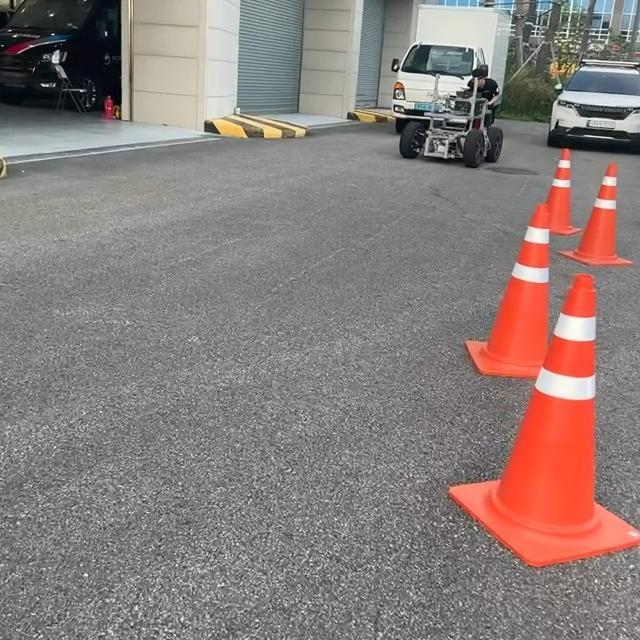fallen_object: (416, 255, 640, 590), (472, 209, 576, 389), (569, 153, 640, 285), (496, 133, 566, 243)
